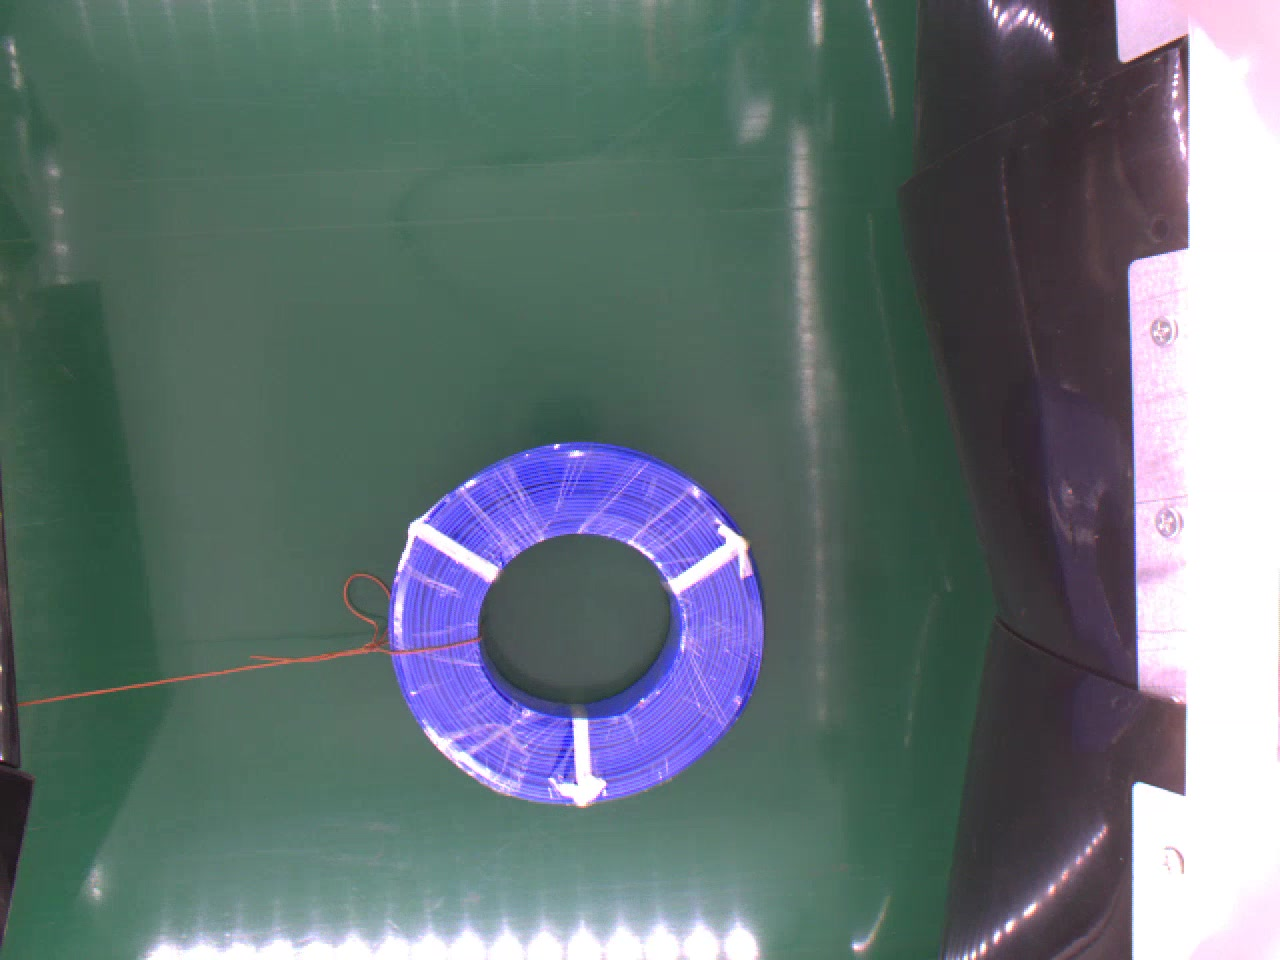blue: (383, 430, 776, 802)
